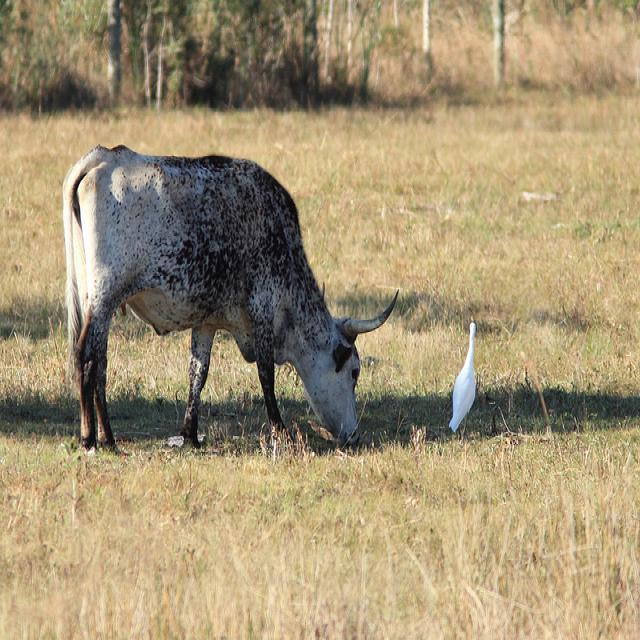cow: (60, 145, 398, 452)
